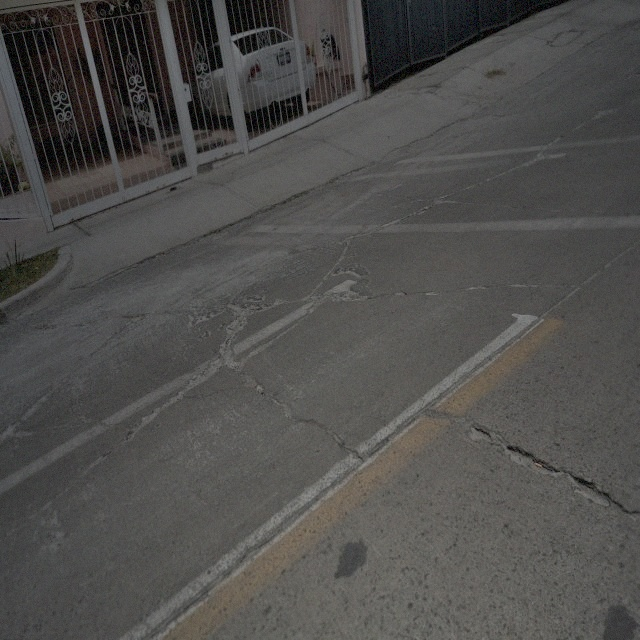pothole: (502, 439, 561, 478), (567, 466, 612, 510), (223, 299, 258, 345), (468, 417, 494, 446), (218, 343, 238, 369), (278, 401, 294, 422), (256, 382, 266, 400), (128, 315, 146, 324)
